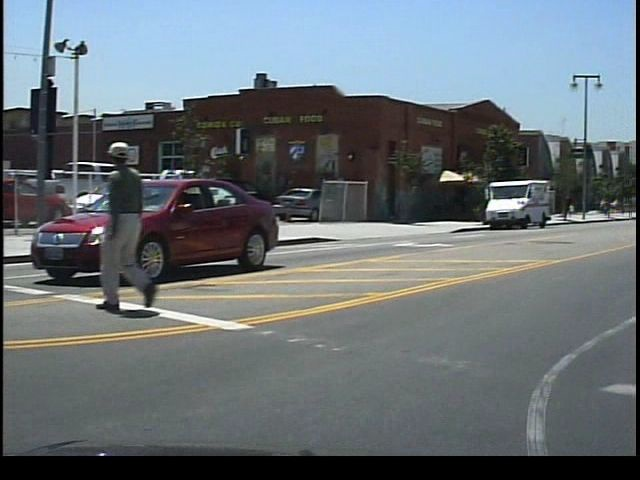person: (99, 142, 182, 313)
